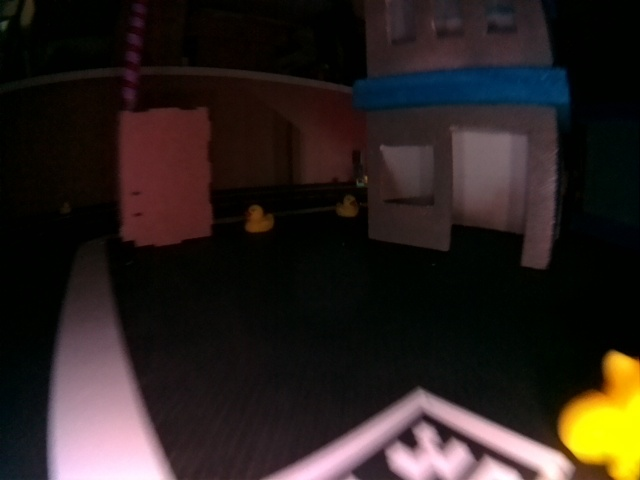Duckie: (562, 349, 639, 479), (245, 204, 275, 234), (334, 195, 358, 217), (61, 201, 71, 212)
QR code: (268, 391, 572, 475)
